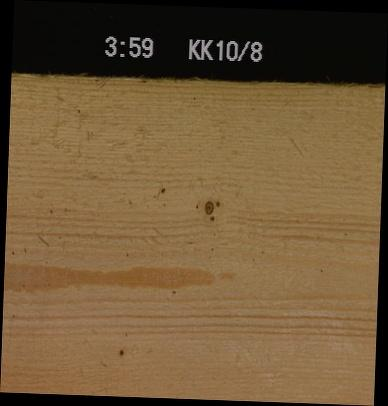dry_knot: (202, 198, 214, 214)
small_knot: (116, 347, 124, 357), (206, 215, 217, 222), (158, 185, 165, 195)
